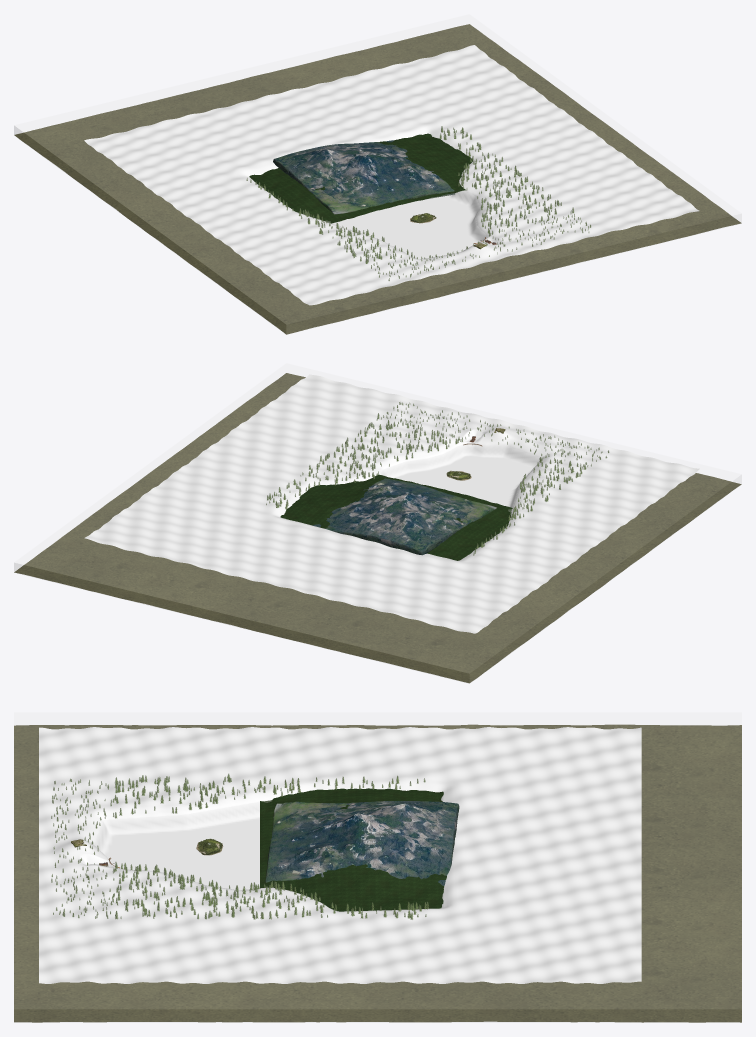
File: IMANTAU.glb
3 renders of one model, top to bottom at view 1: azimuth 30°, elevation 25°; view 2: azimuth 150°, elevation 25°; view 3: azimuth 270°, elevation 25°, orthographic. The views are drawn at different scales.
Visible parts, largest first — view 1: Forested Shore, Blue Lake, lake_basin_ground, pack_object_0000, mountain_foot_ground, shore_pines_1, shore_pines_0; view 2: Forested Shore, Blue Lake, lake_basin_ground, pack_object_0000, mountain_foot_ground, shore_pines_1, shore_pines_0; view 3: Forested Shore, Blue Lake, lake_basin_ground, pack_object_0000, mountain_foot_ground, shore_pines_1, shore_pines_0.
Boxes of the visible parts, x1=… form: Forested Shore: x1=84, y1=45, x2=699, y2=305; Blue Lake: x1=14, y1=14, x2=741, y2=334; lake_basin_ground: x1=14, y1=24, x2=741, y2=334; pack_object_0000: x1=273, y1=140, x2=455, y2=214; mountain_foot_ground: x1=249, y1=133, x2=472, y2=223; shore_pines_1: x1=246, y1=127, x2=590, y2=277; shore_pines_0: x1=250, y1=126, x2=591, y2=280; Forested Shore: x1=84, y1=374, x2=699, y2=633; Blue Lake: x1=14, y1=363, x2=741, y2=683; lake_basin_ground: x1=14, y1=373, x2=741, y2=683; pack_object_0000: x1=312, y1=478, x2=496, y2=555; mountain_foot_ground: x1=280, y1=474, x2=512, y2=560; shore_pines_1: x1=268, y1=402, x2=607, y2=555; shore_pines_0: x1=266, y1=402, x2=609, y2=553; Forested Shore: x1=39, y1=727, x2=641, y2=983; Blue Lake: x1=14, y1=712, x2=741, y2=1022; lake_basin_ground: x1=14, y1=724, x2=741, y2=1022; pack_object_0000: x1=265, y1=801, x2=459, y2=885; mountain_foot_ground: x1=260, y1=788, x2=446, y2=911; shore_pines_1: x1=51, y1=773, x2=426, y2=918; shore_pines_0: x1=51, y1=775, x2=428, y2=919.
Bounding box in the file's own units: 28 × 2.03 × 29.
16 materials, 14 textured.
